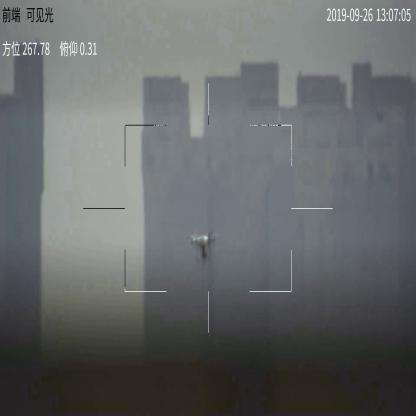uav: (183, 230, 218, 264)
